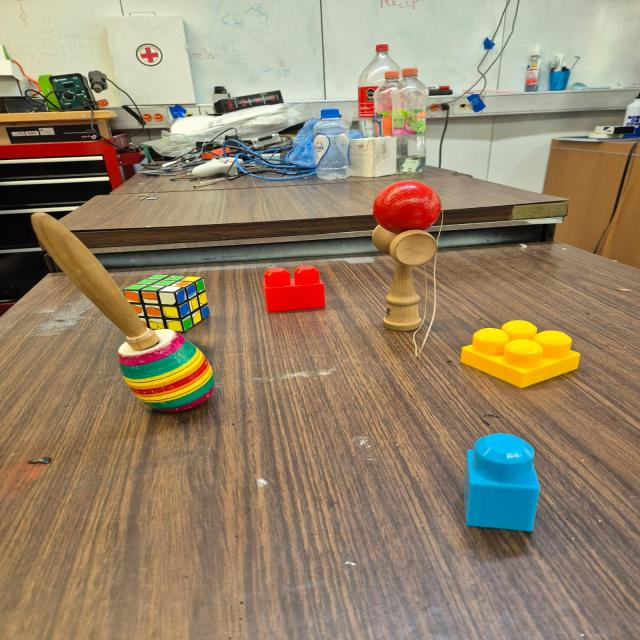balero: (25, 211, 219, 414)
balero ball: (368, 184, 444, 334)
lego 2: (261, 268, 325, 312)
lego 4: (461, 321, 579, 386)
lego_1: (465, 432, 540, 532)
rubick: (124, 273, 212, 335)
